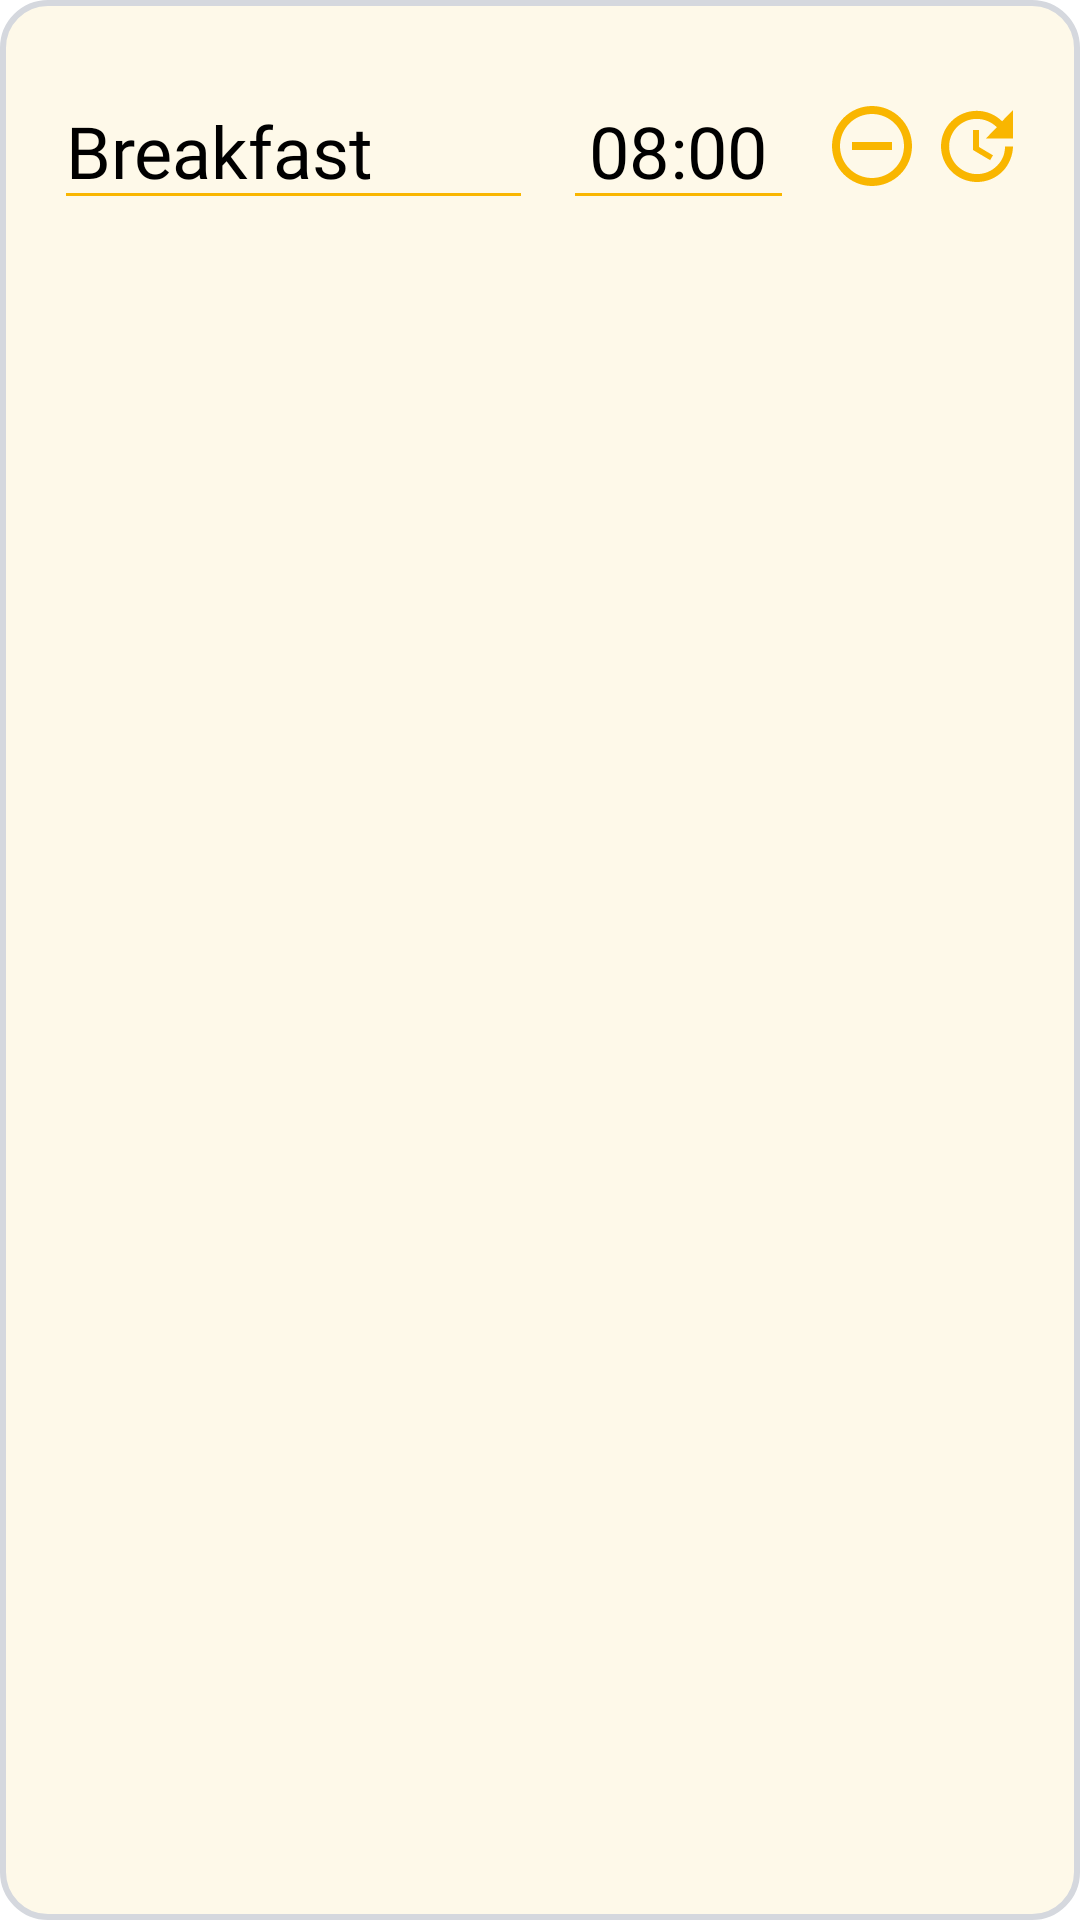

Point at icon controls on the screen. Image size 1080x1920, points as [x,y].
remove circle: [872,146]
update: [977,146]
